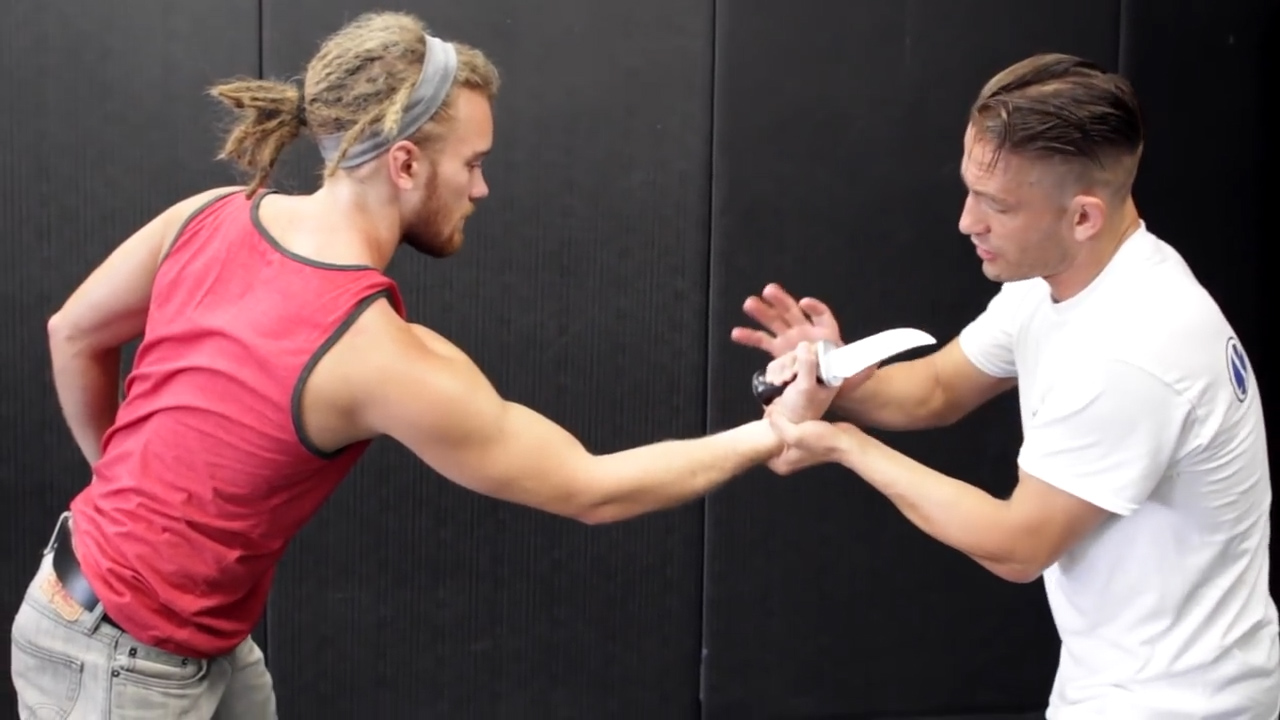knife: (744, 310, 947, 417)
